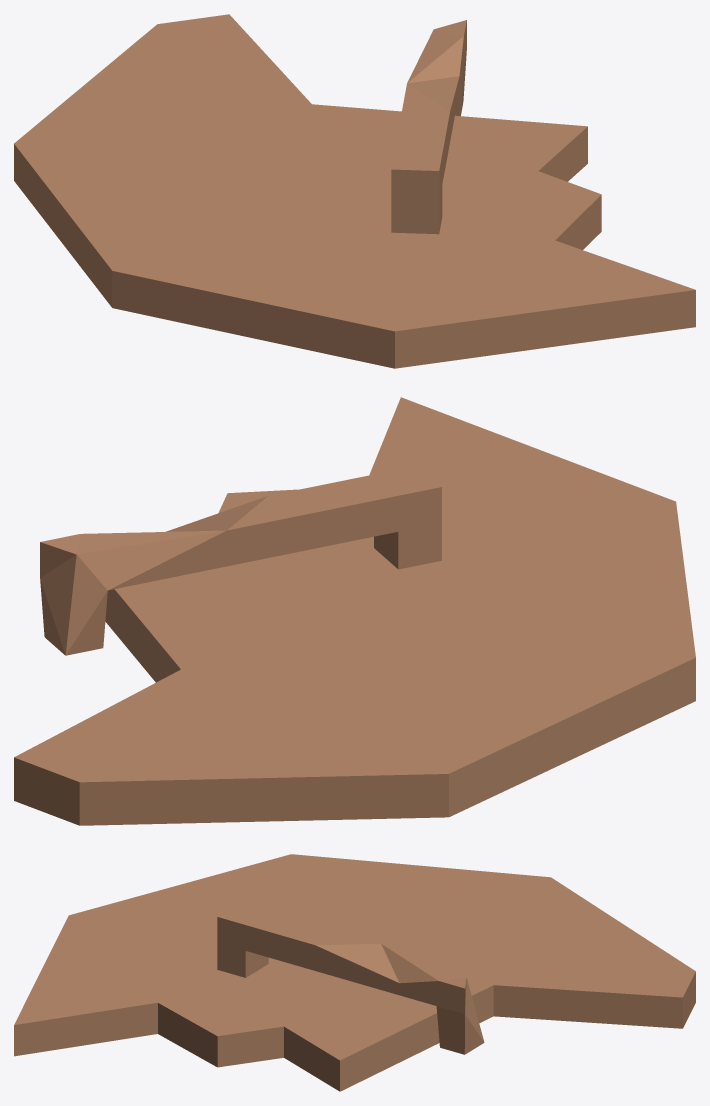
Rendered from Barrel_Lid_Destroyed_1 Asia.fbx.
3 views of the same model, one above another, from view 1: azimuth 30°, elevation 25°; view 2: azimuth 150°, elevation 25°; view 3: azimuth 270°, elevation 25° (orthographic). The views are drawn at different scales.
Visible parts, largest first — view 1: Barrel_Lid_Destroyed_1; view 2: Barrel_Lid_Destroyed_1; view 3: Barrel_Lid_Destroyed_1.
Part boxes in pixels (box(x1,y1,x2,y2)): Barrel_Lid_Destroyed_1: box(14, 14, 695, 368); Barrel_Lid_Destroyed_1: box(14, 397, 695, 825); Barrel_Lid_Destroyed_1: box(14, 854, 695, 1091).
Bounding box in the file's own units: 0.2784 × 0.0529 × 0.3886.
